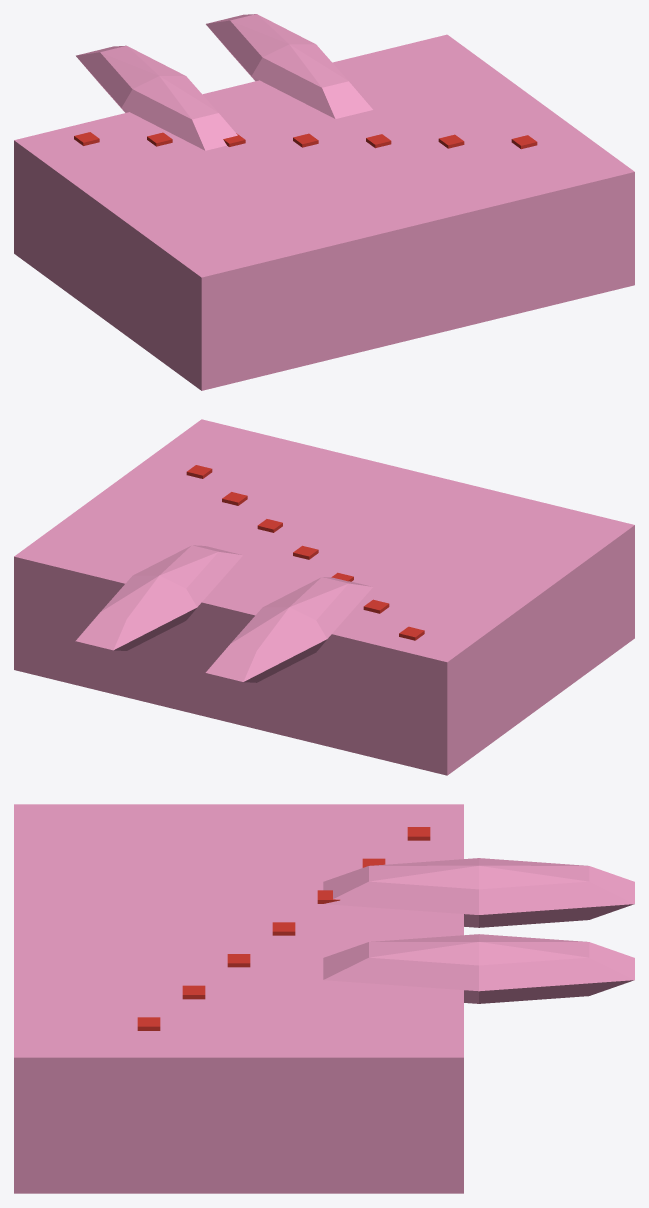
The model's file is itchy_costume.glb.
3 views of the same model, one above another, from view 1: azimuth 30°, elevation 25°; view 2: azimuth 150°, elevation 25°; view 3: azimuth 270°, elevation 25° (orthographic). The views are drawn at different scales.
Parts seen in each view (by area): view 1: body_itchy_pink, ears_itchy_pink; view 2: body_itchy_pink, ears_itchy_pink; view 3: body_itchy_pink, ears_itchy_pink.
Boxes of the visible parts, x1,y1,x2,y2 form: body_itchy_pink: (14, 34, 634, 390); ears_itchy_pink: (76, 14, 372, 150); body_itchy_pink: (14, 419, 634, 775); ears_itchy_pink: (75, 545, 372, 682); body_itchy_pink: (14, 804, 463, 1193); ears_itchy_pink: (323, 858, 634, 1003).
Bounding box in the file's own units: 0.4 × 0.12 × 0.4139.
